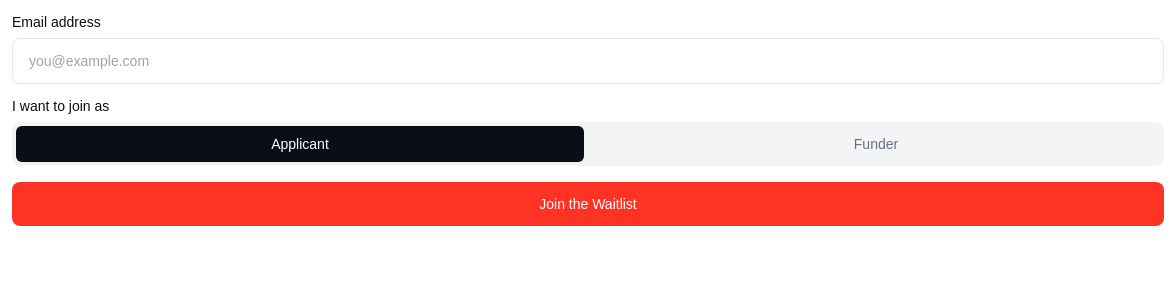
WaitlistForm › clears error message on resubmit after a previous failure
Type "test@example.com" into the field with placeholder "you@example.com".
click(588, 61); type("test@example.com")  # box [12, 38, 1164, 84]
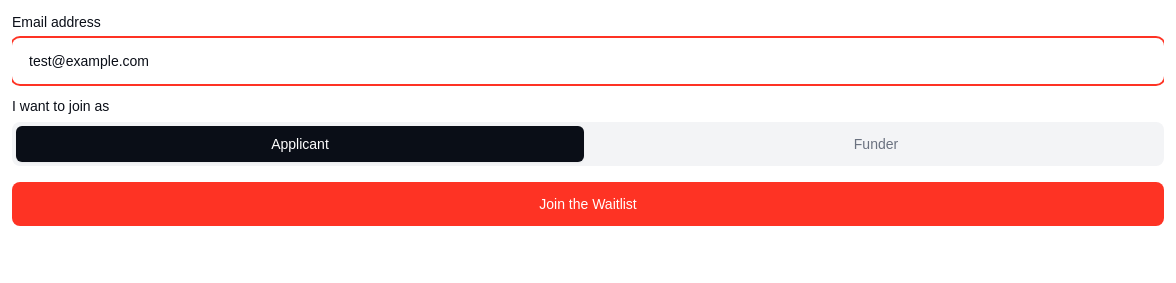
Click the button "Join the Waitlist".
click(588, 204)  # box [12, 182, 1164, 226]
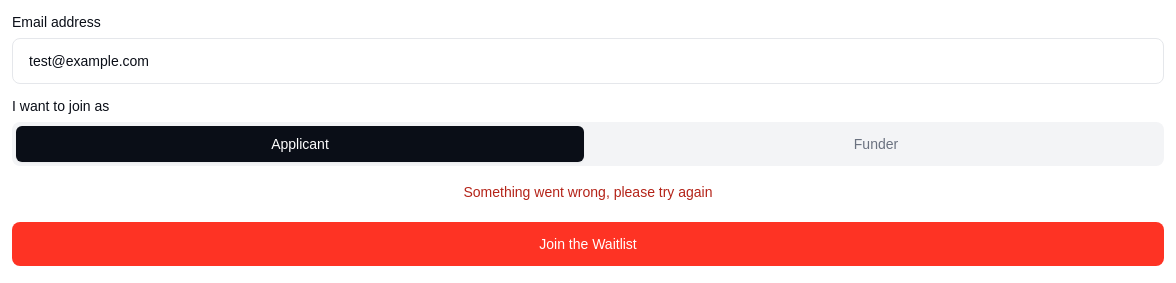
expect the text "Something went wrong, please try again" is shown: met, box [464, 184, 712, 200]
Click the button "Join the Waitlist".
click(588, 244)  # box [12, 222, 1164, 266]
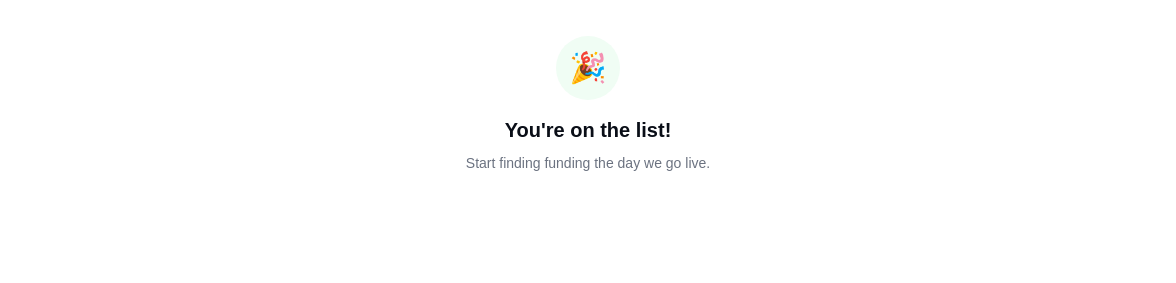
expect the text "Something went wrong, please try again" is gone: met
expect the heading "You're on the list!" is shown: met, box [505, 119, 671, 141]
